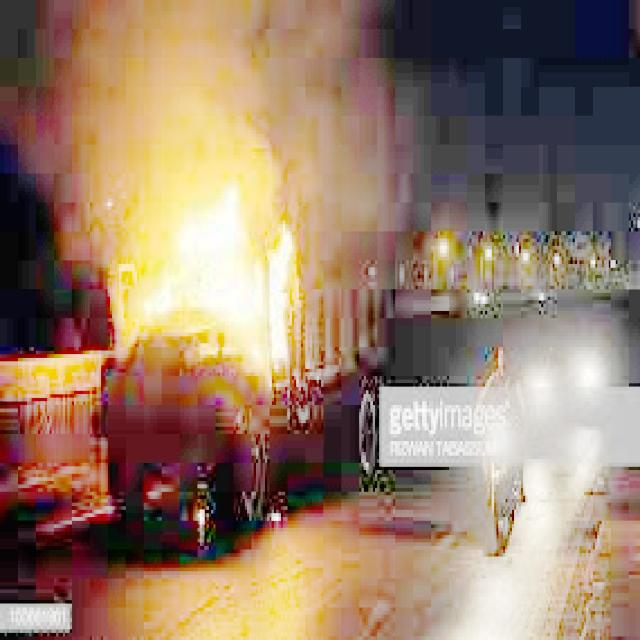api: (102, 142, 304, 395)
